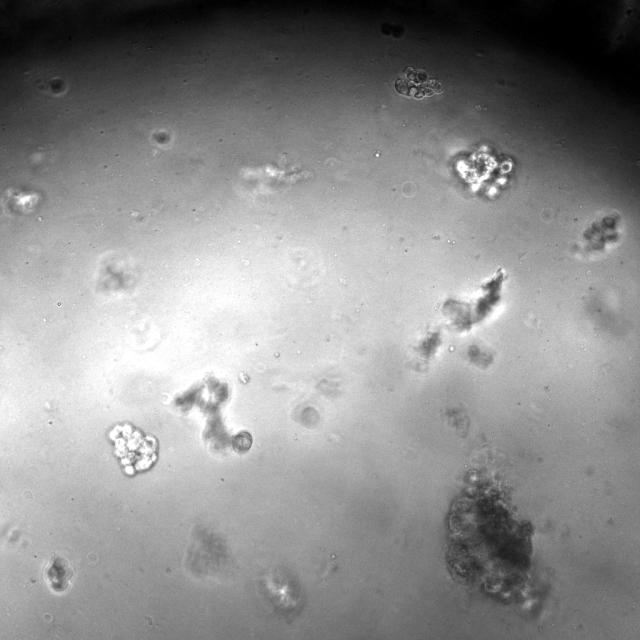organoid: (446, 467, 545, 613), (172, 373, 252, 453), (441, 267, 506, 331), (451, 145, 514, 199), (108, 422, 158, 475), (569, 210, 622, 259), (394, 66, 444, 99), (42, 555, 74, 595), (49, 78, 66, 95)
